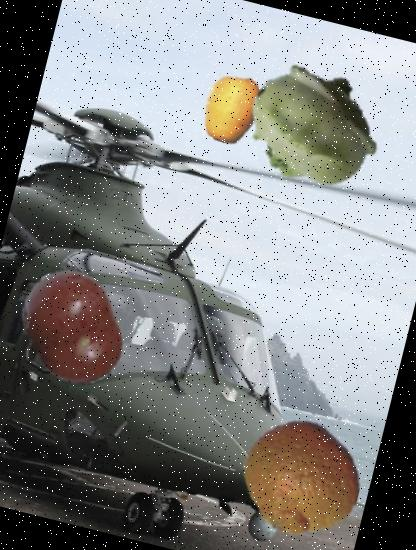Cherry: (2, 256, 146, 400)
Kohlrabi: (233, 47, 393, 207)
Kumquats: (190, 66, 275, 152)
Mandarine: (229, 406, 373, 550)
